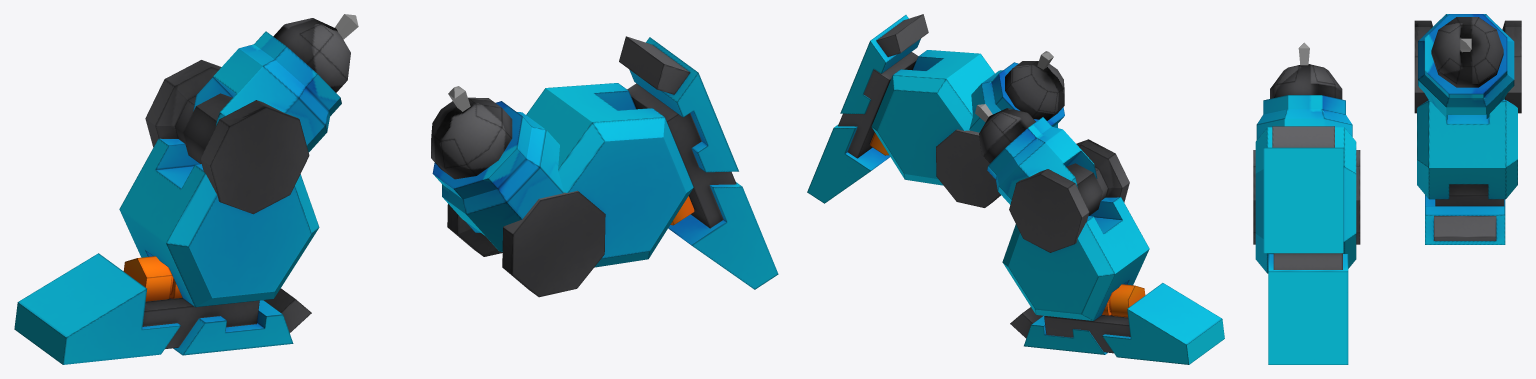
File: Bottom_Running1.obj
3 views of the same model, side by side, from view 1: azimuth 30°, elevation 25°; view 2: azimuth 150°, elevation 25°; view 3: azimuth 270°, elevation 25° (orthographic). The views are drawn at different scales.
Visible parts, largest first — view 1: Object010, Object013, Object011, Object014, Object012, Object009; view 2: Object010, Object013, Object011, Object014, Object009, Object012; view 3: Object014, Object010, Object009, Object012, Object011, Object013.
Part boxes in pixels (bbox=[...]): Object010: bbox=[119, 60, 319, 307]; Object013: bbox=[447, 83, 693, 297]; Object011: bbox=[14, 253, 311, 364]; Object014: bbox=[619, 36, 778, 289]; Object012: bbox=[431, 97, 563, 251]; Object009: bbox=[193, 18, 350, 152]; Object010: bbox=[1002, 139, 1149, 320]; Object013: bbox=[871, 50, 1000, 207]; Object011: bbox=[1010, 283, 1224, 364]; Object014: bbox=[807, 14, 928, 203]; Object009: bbox=[979, 108, 1097, 204]; Object012: bbox=[969, 61, 1064, 132]; Object014: bbox=[1263, 126, 1348, 364]; Object010: bbox=[1414, 20, 1521, 199]; Object009: bbox=[1418, 14, 1514, 119]; Object012: bbox=[1256, 64, 1352, 139]; Object011: bbox=[1425, 184, 1505, 244]; Object013: bbox=[1253, 127, 1360, 273].
Bounding box in the file's own units: 207 × 93.49 × 94.84.
